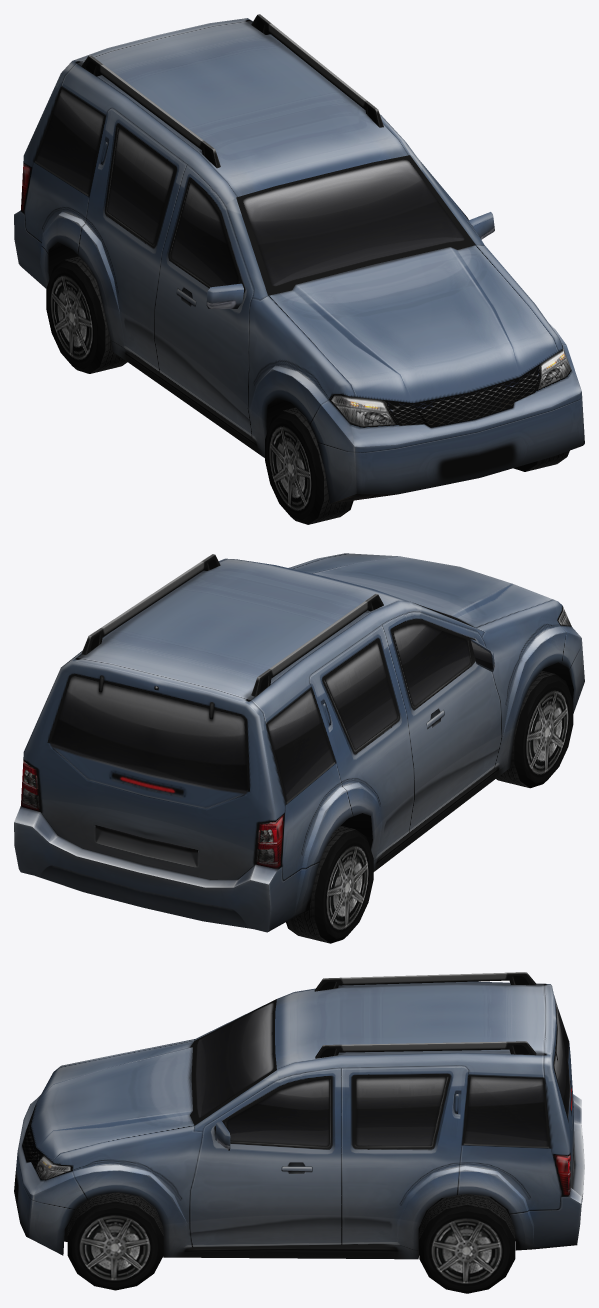
The model's file is traf_veh5.fbx.
The picture shows the model from 3 angles, top to bottom: view 1: azimuth 30°, elevation 25°; view 2: azimuth 150°, elevation 25°; view 3: azimuth 270°, elevation 25°; orthographic projection. The views are drawn at different scales.
Parts seen in each view (by area): view 1: traf_veh5; view 2: traf_veh5; view 3: traf_veh5.
Boxes of the visible parts, bbox=[...] form: traf_veh5: bbox=[14, 14, 584, 524]; traf_veh5: bbox=[14, 553, 584, 943]; traf_veh5: bbox=[14, 972, 584, 1293].
Bounding box in the file's own units: 2.39 × 2.2 × 4.91.
